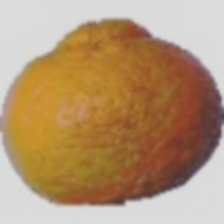tangerine: (47, 26, 209, 188)
